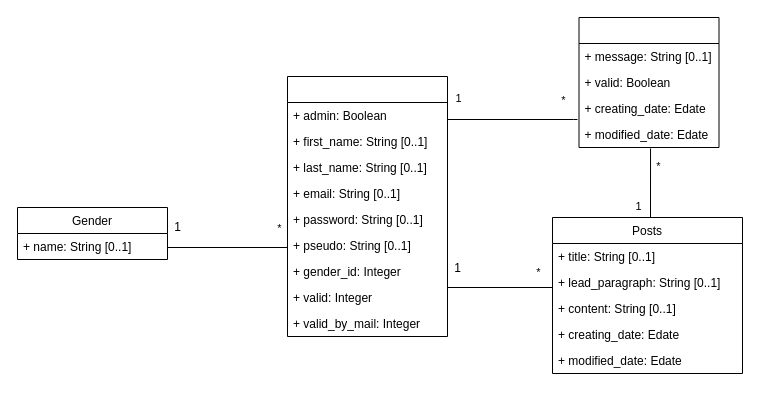
The diagram is 760 pixels wide and 394 high, and some of its shapes have lost their labels. The shapes that lost their labels are listed below. From the top down, each one's box as (x1, y1, x2, y2) in pixels, then its label:
(578, 16, 719, 148): Comments
(286, 76, 448, 336): User
